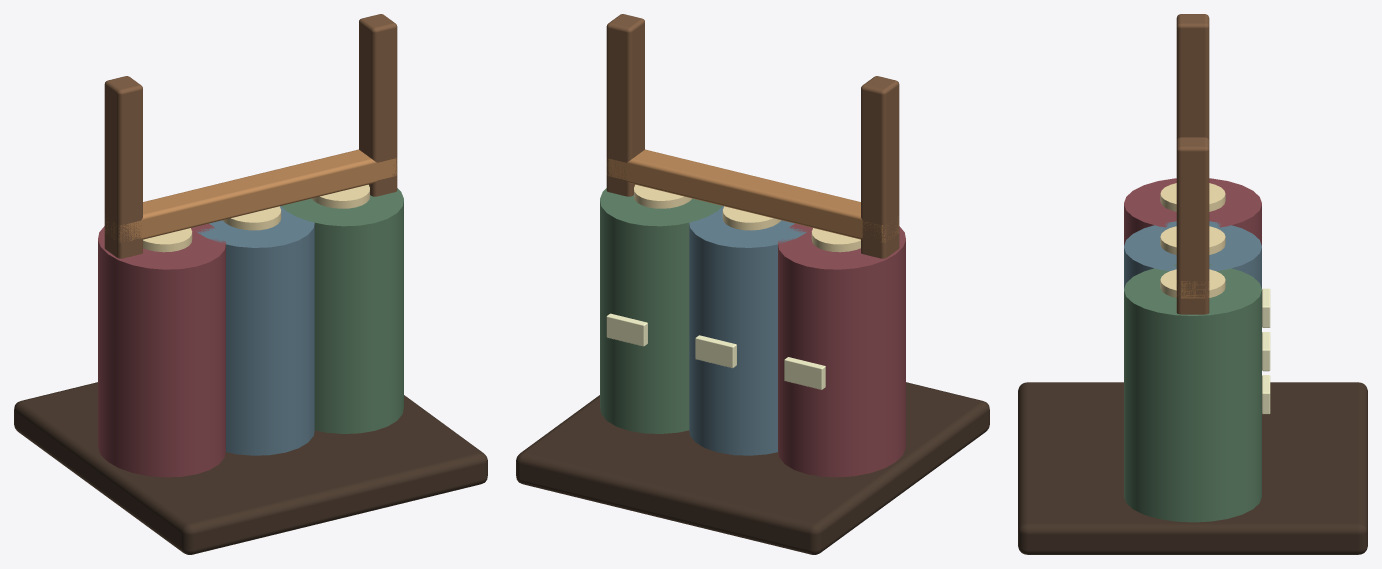
The model's file is detail_cloth_bolts.glb.
3 renders of one model, left to right at view 1: azimuth 30°, elevation 25°; view 2: azimuth 150°, elevation 25°; view 3: azimuth 270°, elevation 25°, orthographic.
Visible parts, largest first — view 1: cloth, wood, metal; view 2: cloth, wood, metal; view 3: wood, cloth.
Boxes of the visible parts, x1,y1,x2,y2 form: cloth: [98, 188, 403, 477]; wood: [14, 14, 487, 554]; metal: [105, 149, 397, 242]; cloth: [600, 188, 905, 477]; wood: [516, 14, 989, 554]; metal: [606, 149, 898, 242]; wood: [1018, 14, 1367, 554]; cloth: [1124, 178, 1261, 522].
Bounding box in the file's own units: 1.1 × 1.4 × 1.1.
